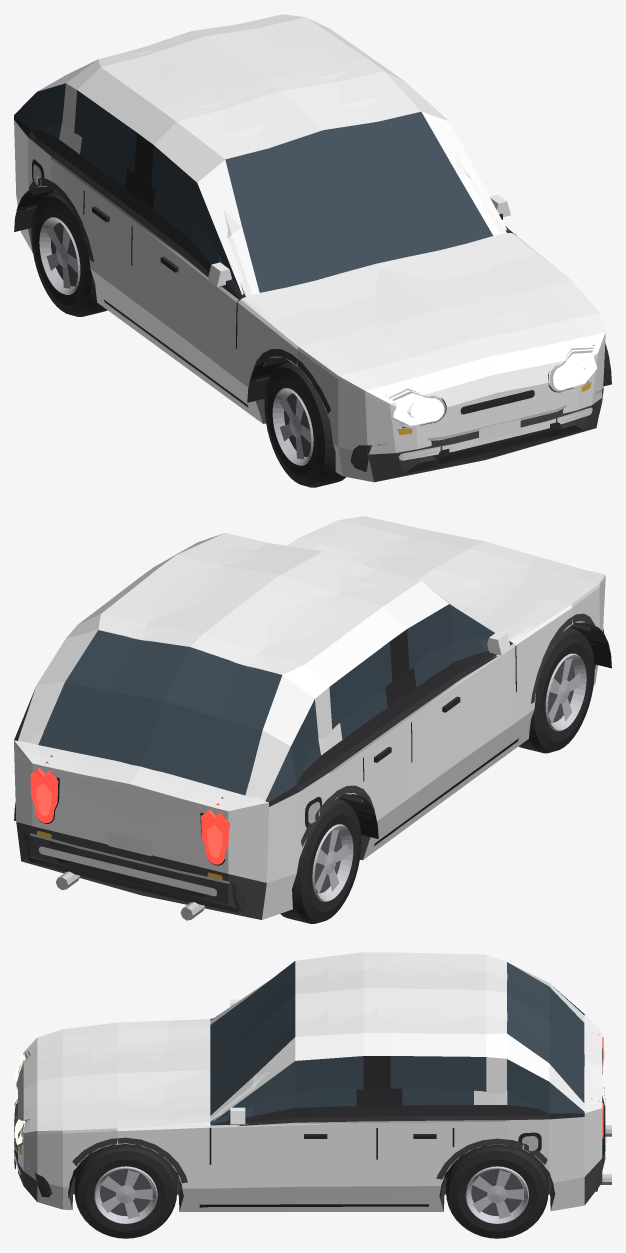
File: caipora.glb
The picture shows the model from 3 angles, top to bottom: view 1: azimuth 30°, elevation 25°; view 2: azimuth 150°, elevation 25°; view 3: azimuth 270°, elevation 25°; orthographic projection. The views are drawn at different scales.
Visible parts, largest first — view 1: body.001, body, glass, glass.001, details, wheel_fr, wheel_rr, lamp_head, lamp_head.001, wheel_wells.001; view 2: body.001, glass.001, body, details, glass, wheel_rr, wheel_fr, lamp_tail, wheel_wells.001, lamp_tail.001; view 3: body.001, body, glass.001, glass, wheel_rl, wheel_fl, details, wheel_wells, wheel_wells.001.
Boxes of the visible parts, x1,y1,x2,y2 form: body.001: (14,14,605,482); body: (18,22,551,417); glass: (41,122,511,298); glass.001: (14,83,456,293); details: (29,157,603,471); wheel_fr: (264,361,345,487); wheel_rr: (31,191,107,316); lamp_head: (386,345,597,434); lamp_head.001: (394,353,597,425); wheel_wells.001: (14,186,609,402); body.001: (14,516,605,919); glass.001: (14,604,494,802); body: (17,538,534,820); details: (22,613,603,920); glass: (38,636,511,795); wheel_rr: (280,798,361,923); wheel_fr: (518,627,594,753); lamp_tail: (30,755,229,879); wheel_wells.001: (338,622,611,838); lamp_tail.001: (30,761,229,864); body.001: (18,952,602,1211); body: (68,962,601,1194); glass.001: (214,961,584,1120); glass: (210,972,584,1124); wheel_rl: (446,1147,548,1238); wheel_fl: (74,1147,176,1238); details: (14,999,611,1207); wheel_wells: (68,1144,554,1198); wheel_wells.001: (68,1147,554,1197).
Size of the model in its own units: 1.98 by 1.62 by 4.38.
